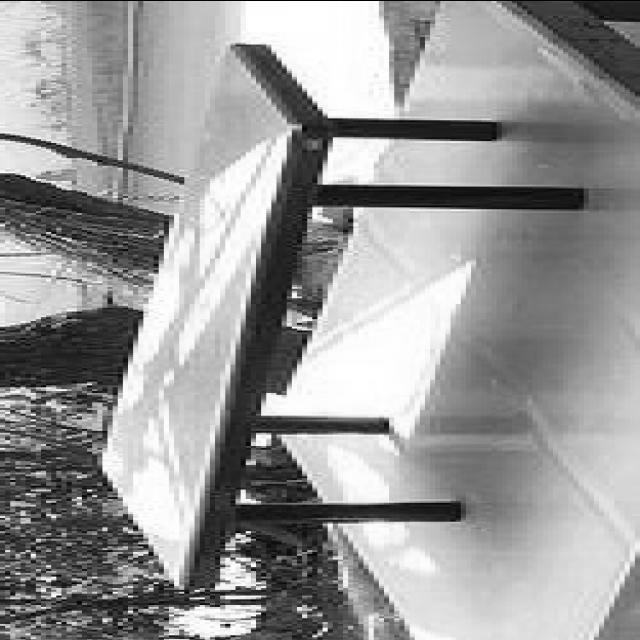table: (98, 42, 582, 588)
